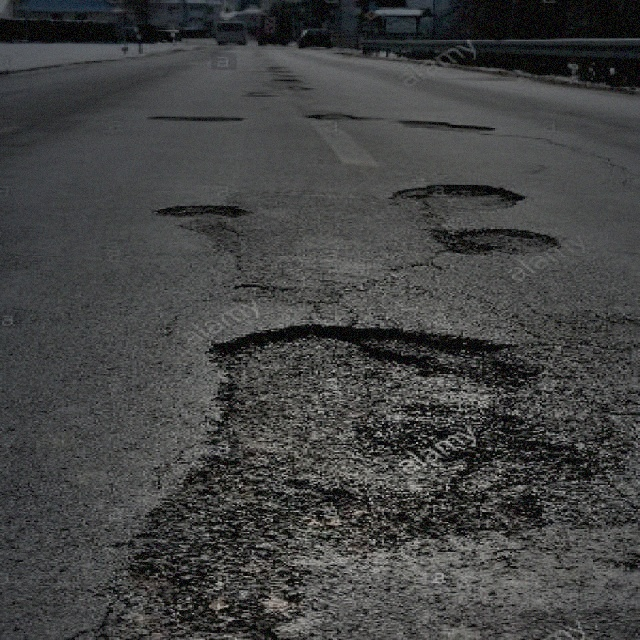pothole: (198, 320, 602, 556), (427, 222, 563, 257), (386, 181, 527, 209), (386, 116, 497, 134), (152, 204, 248, 218), (143, 111, 245, 121), (298, 110, 376, 122), (284, 81, 311, 93)
